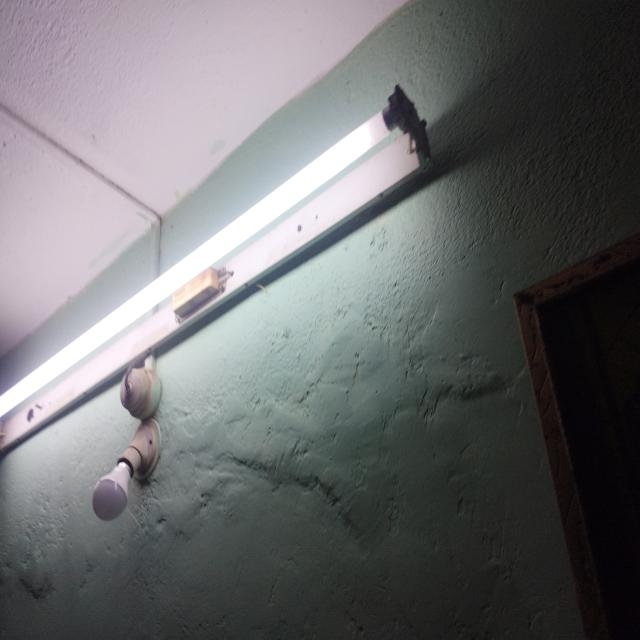tubelight_on: (0, 78, 436, 461)
